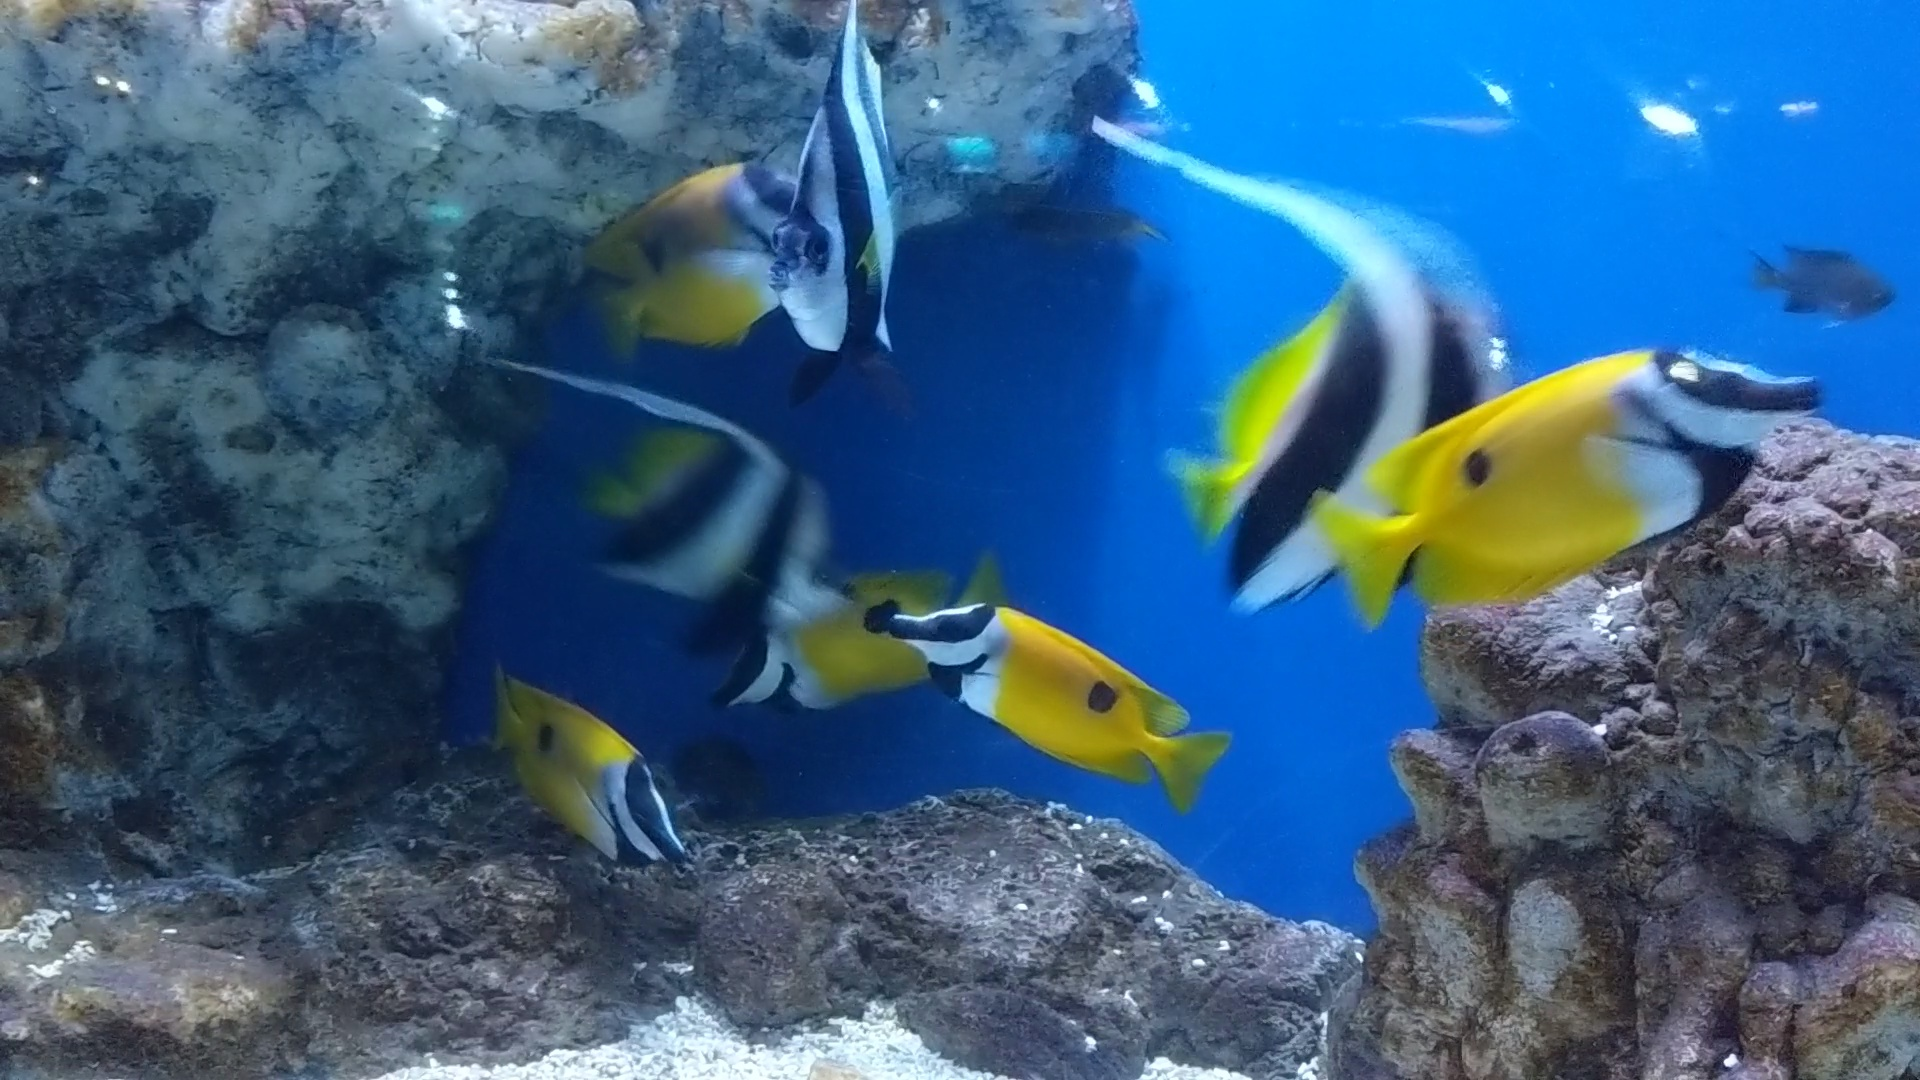moorfish: (1087, 104, 1520, 615), (483, 359, 839, 634), (727, 15, 924, 367)
rabbitfish: (1342, 348, 1818, 630), (885, 603, 1215, 804), (533, 158, 800, 356), (467, 669, 688, 862), (723, 560, 994, 716)
